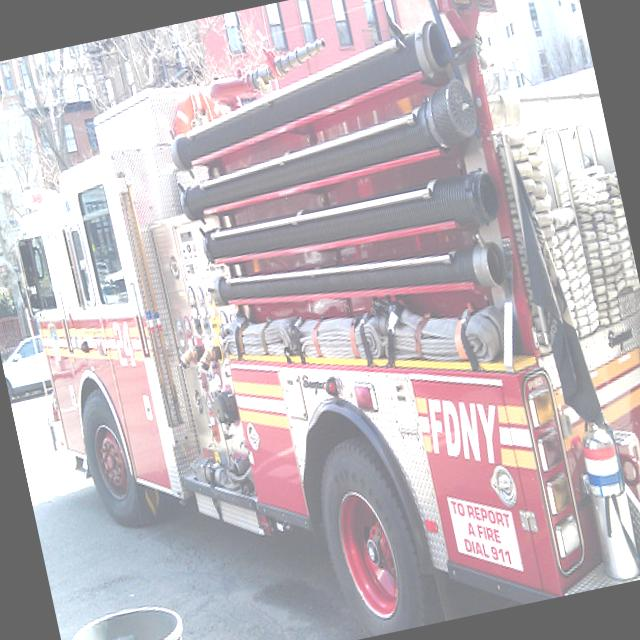Vehicle: (0, 0, 640, 640), (0, 330, 43, 401)
